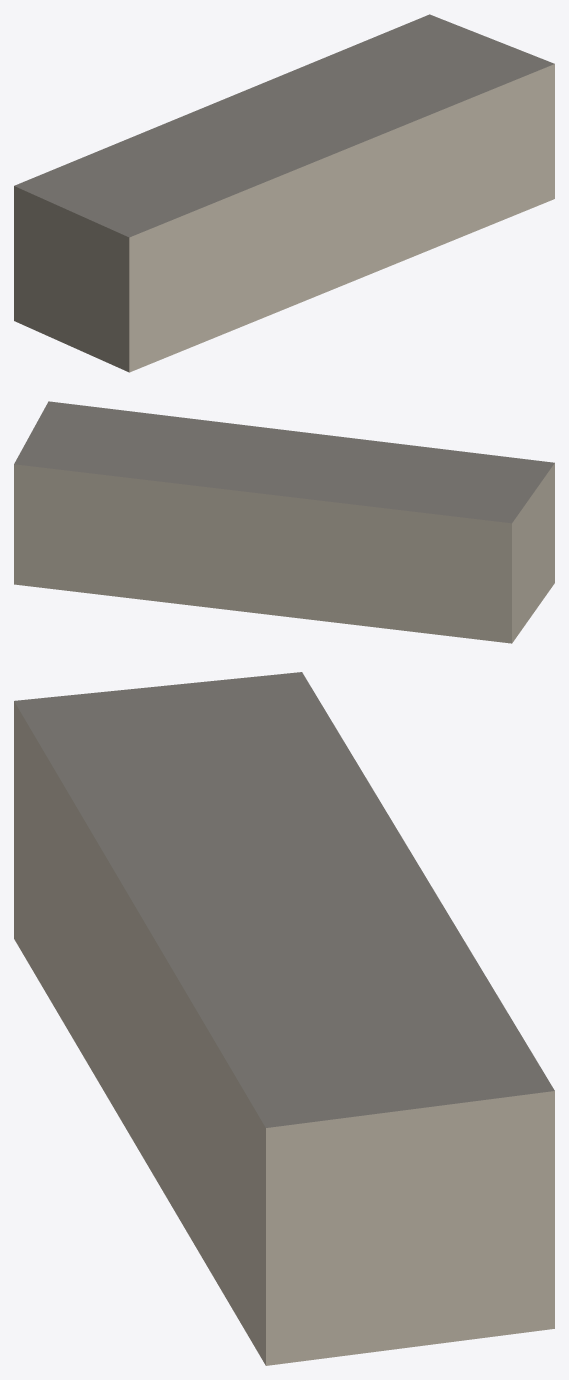
3 renders of one model, top to bottom at view 1: azimuth 30°, elevation 25°; view 2: azimuth 150°, elevation 25°; view 3: azimuth 270°, elevation 25°, orthographic. The views are drawn at different scales.
Parts seen in each view (by area): view 1: HP-w373833589; view 2: HP-w373833589; view 3: HP-w373833589.
Boxes of the visible parts, box(x1,y1,x2,y2) form: HP-w373833589: box(14, 14, 554, 372); HP-w373833589: box(14, 401, 554, 643); HP-w373833589: box(14, 672, 554, 1365).
Bounding box in the file's own units: 49.35 × 12 × 24.74.
